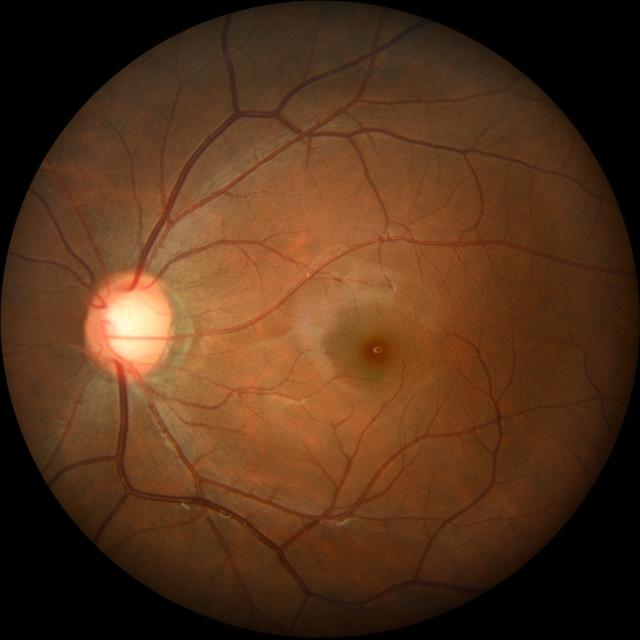OC: (103, 290, 160, 360)
OD: (84, 272, 173, 378)
